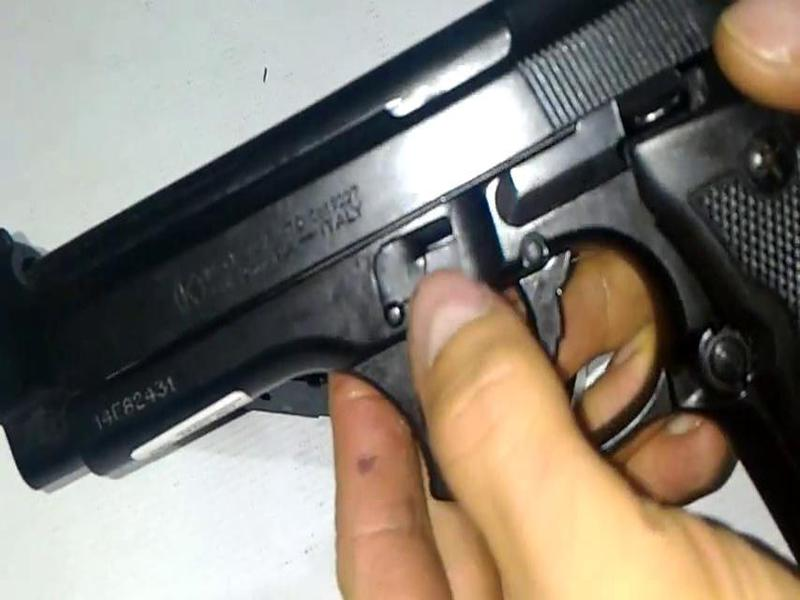Pistola: (1, 11, 800, 509)
